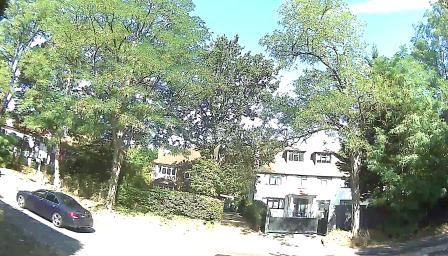Cars: (17, 185, 98, 246)
